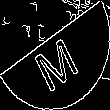M_NW: (28, 21, 82, 89)
